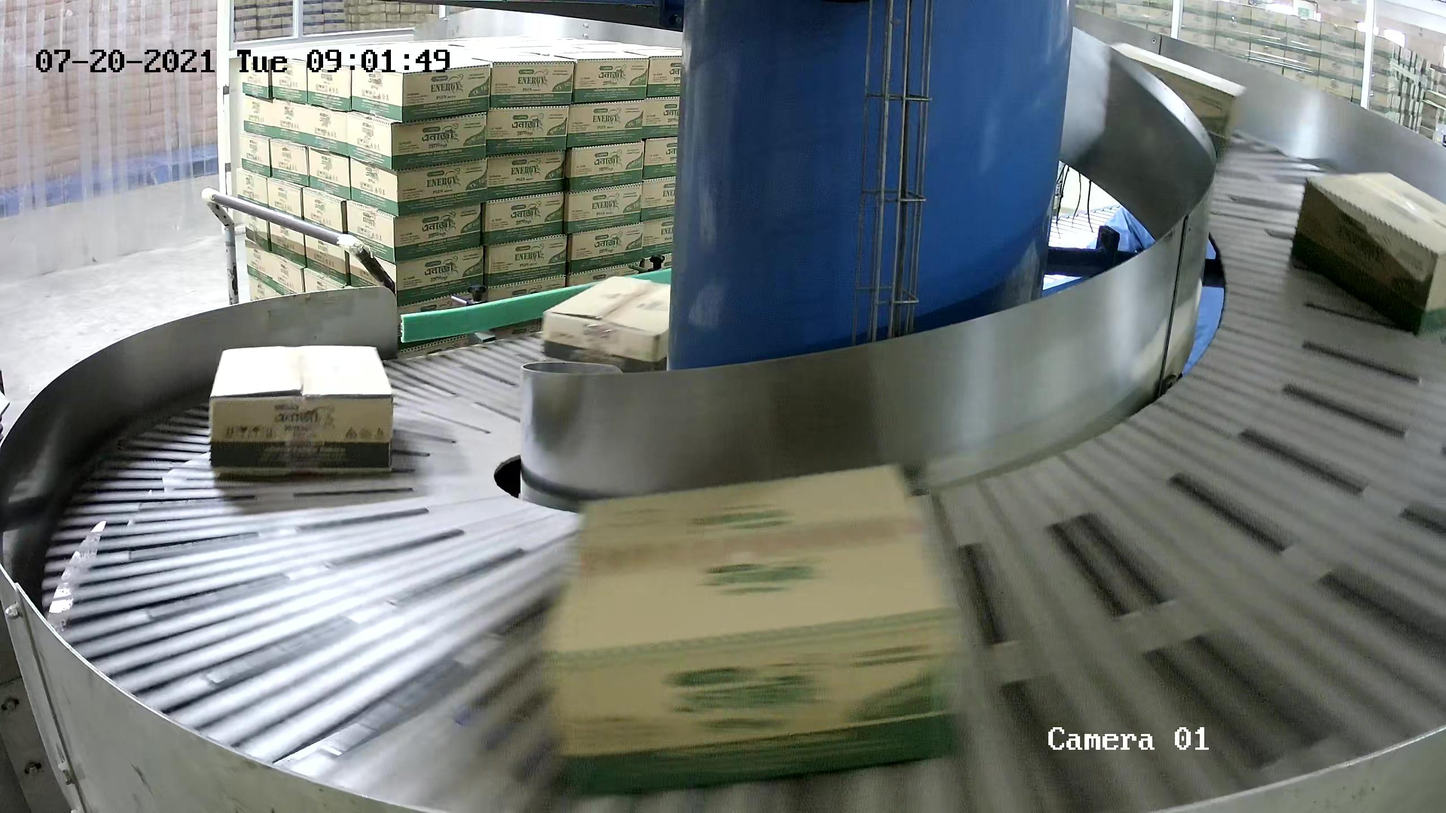Box: (533, 461, 977, 795), (1289, 170, 1446, 337), (208, 343, 395, 476), (1106, 41, 1247, 157), (541, 275, 671, 374)
